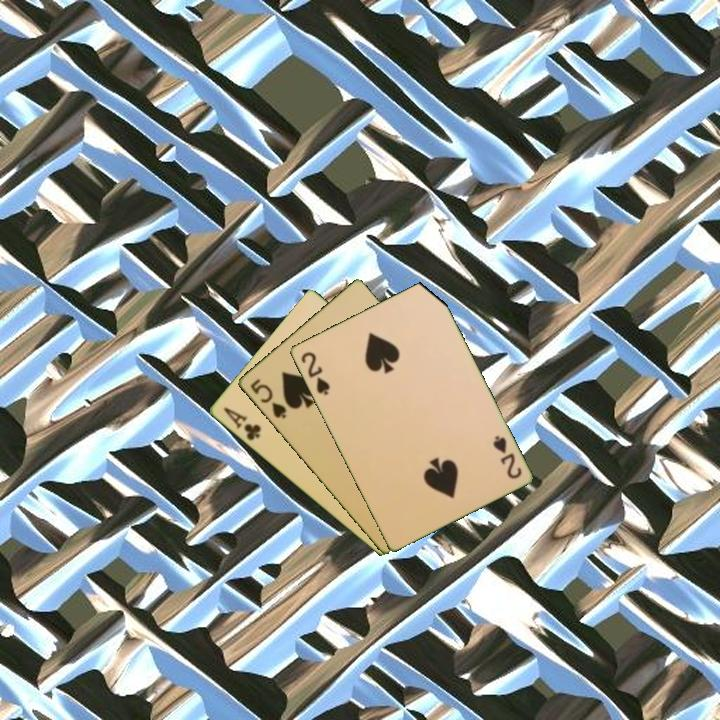2s: (297, 348, 333, 398), (489, 431, 524, 482)
5s: (246, 375, 289, 422)
Ac: (219, 403, 264, 444)
